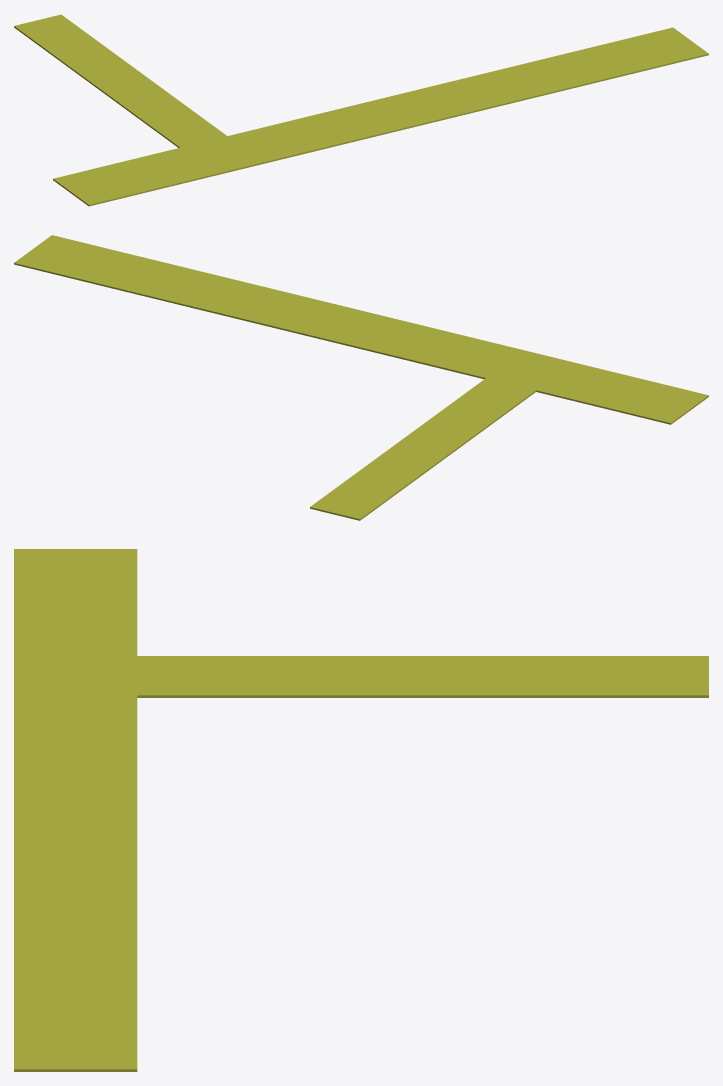
The model's file is road.glb.
3 renders of one model, top to bottom at view 1: azimuth 30°, elevation 25°; view 2: azimuth 150°, elevation 25°; view 3: azimuth 270°, elevation 25°, orthographic. The views are drawn at different scales.
Parts seen in each view (by area): view 1: Дорога; view 2: Дорога; view 3: Дорога.
Part boxes in pixels (left/top/right/bottom): Дорога: left=14, top=14, right=708, bottom=206; Дорога: left=14, top=235, right=708, bottom=520; Дорога: left=14, top=549, right=708, bottom=1071.
Size of the model in its own units: 210 by 0.5016 by 119.
